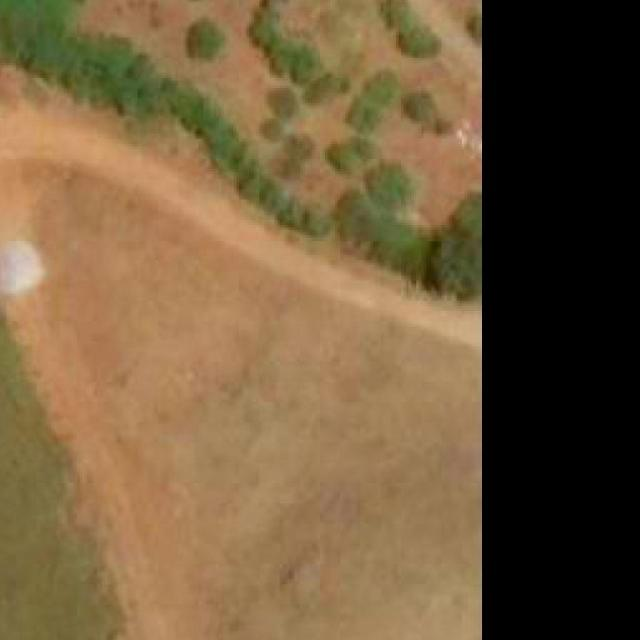Tree: (426, 189, 482, 304), (364, 162, 419, 213), (325, 134, 378, 173), (183, 15, 222, 61), (398, 22, 436, 58), (264, 88, 300, 117), (408, 93, 437, 124), (369, 71, 394, 106), (350, 98, 376, 129), (257, 113, 286, 139)
